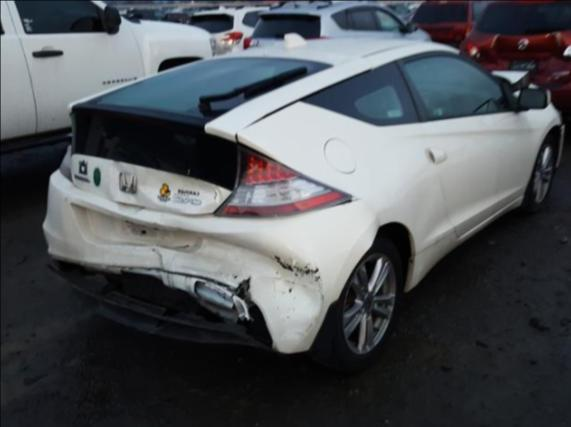Broken part: (41, 169, 386, 352), (232, 97, 300, 143)
Corrosion: (270, 253, 326, 338)
Dent: (162, 226, 328, 352), (110, 163, 222, 215)
Missing part: (90, 216, 189, 250)
Paint chip: (122, 217, 178, 236), (146, 235, 203, 252), (212, 188, 217, 204), (231, 273, 240, 280)
Scratch: (62, 195, 68, 207)
